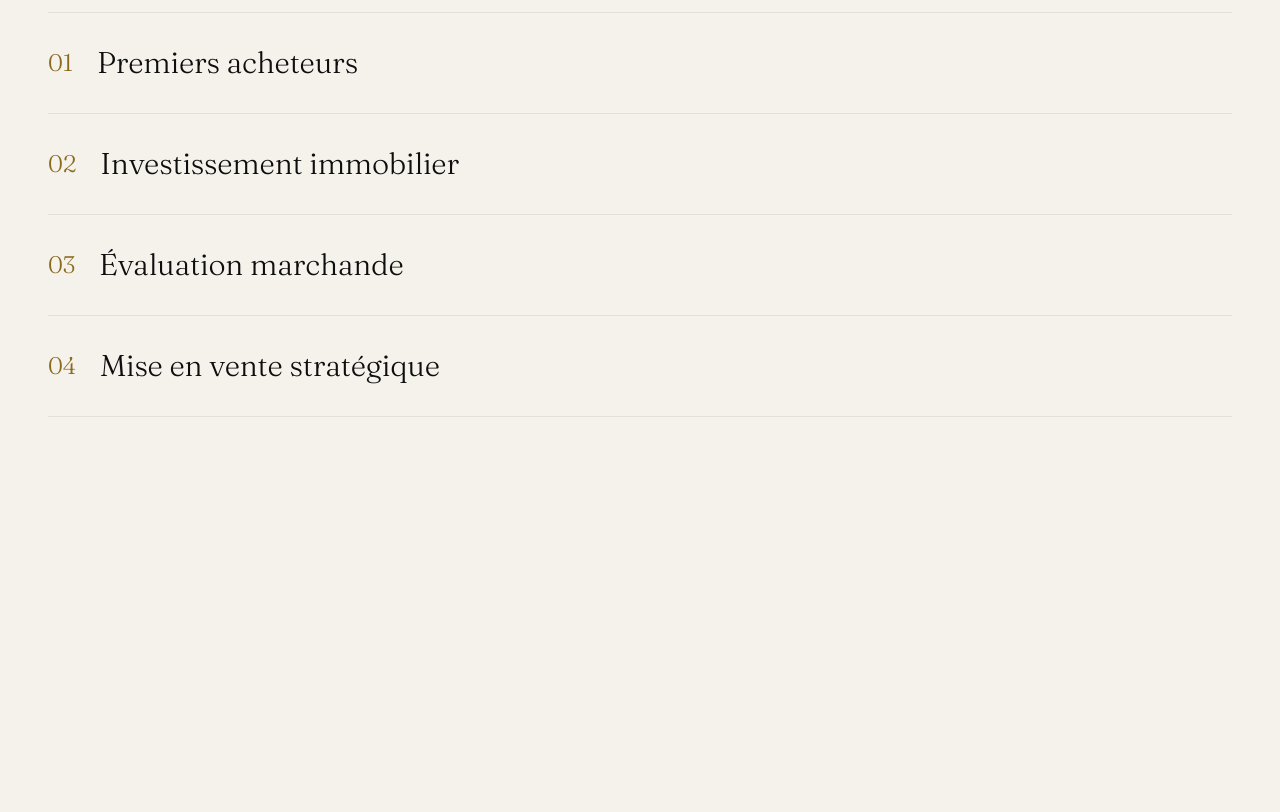
it: <ServiceAccordion> › toggles aria-expanded on click
This screenshot has width=1280, height=812.
Step 1. Click the button "01 Premiers acheteurs" → (227, 62), box [48,13,1232,113]
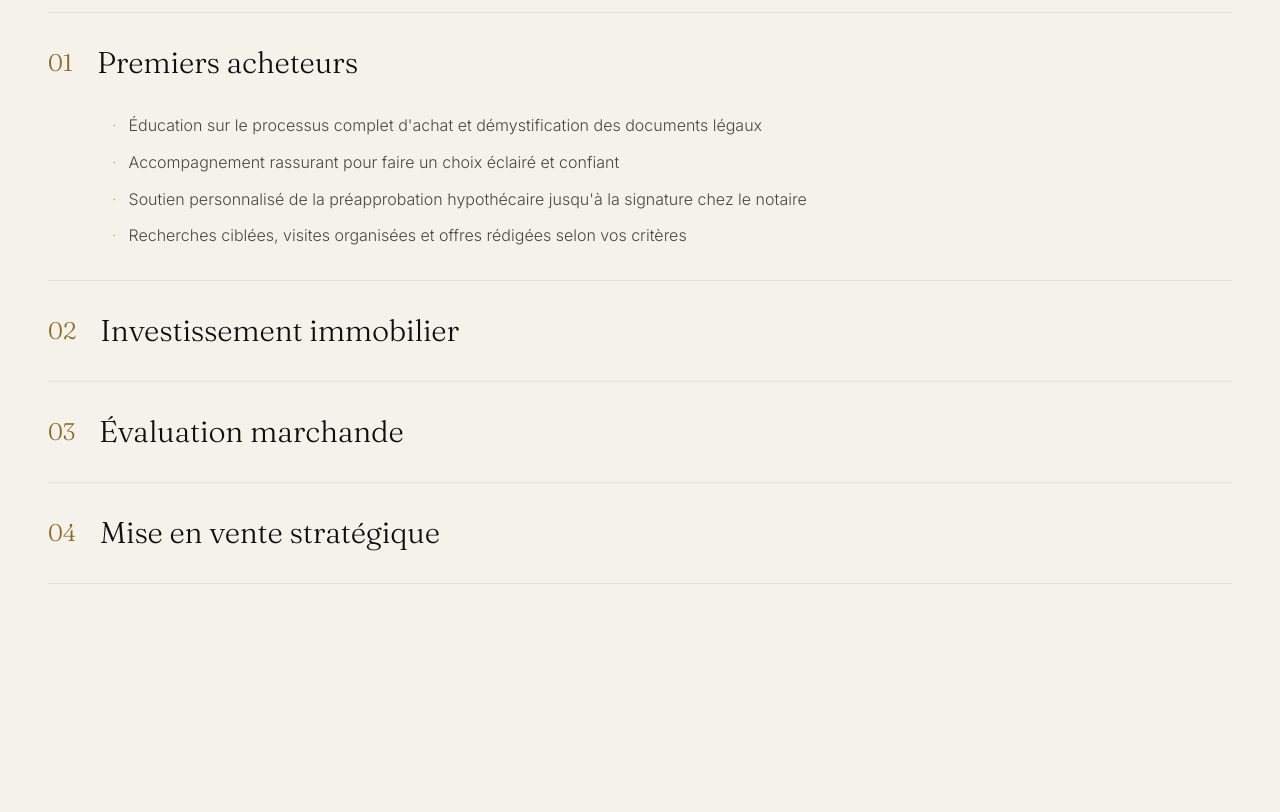
Result: the text "Éducation sur le processus complet d'achat et démystification des documents légaux" is shown at [128,115,762,135]
Step 2. Click the button "02 Investissement immobilier" → (280, 331), box [48,281,1232,381]
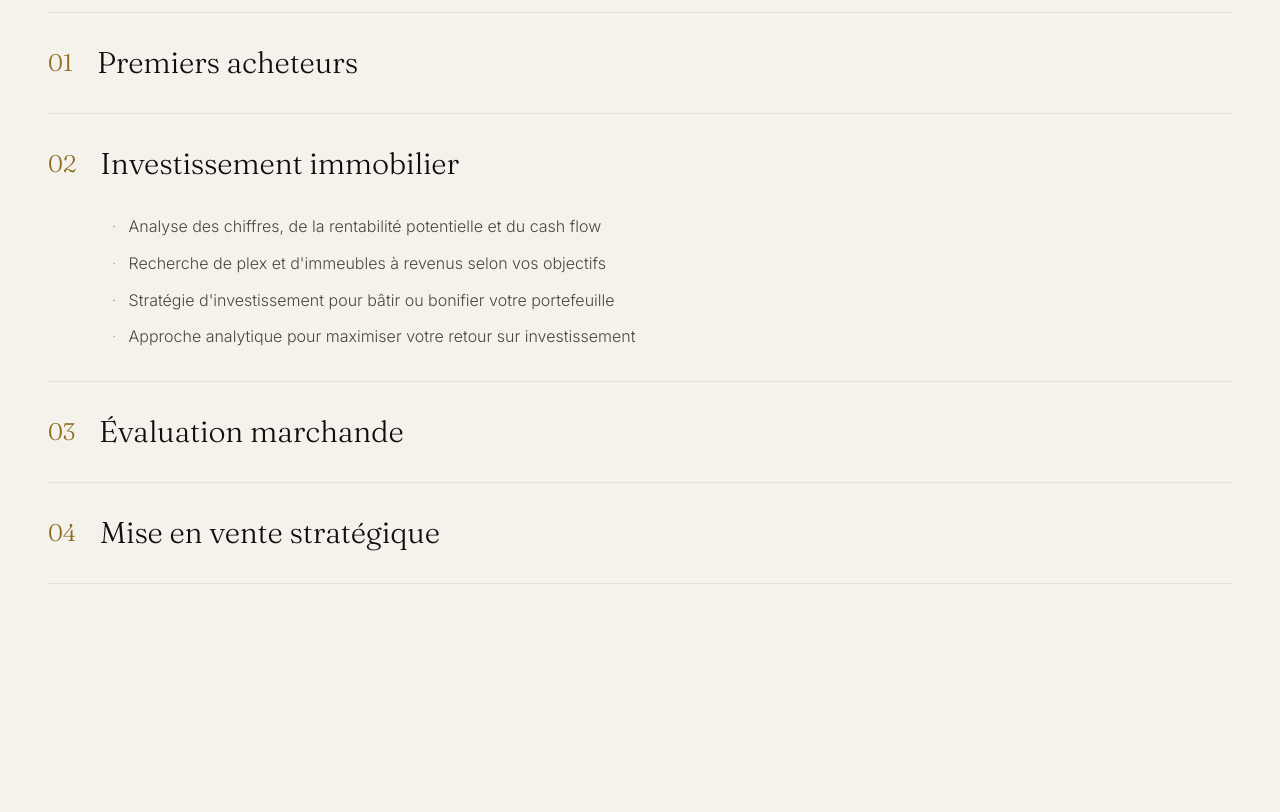
Result: the button "02 Investissement immobilier" is expanded at [48,114,1232,214]
